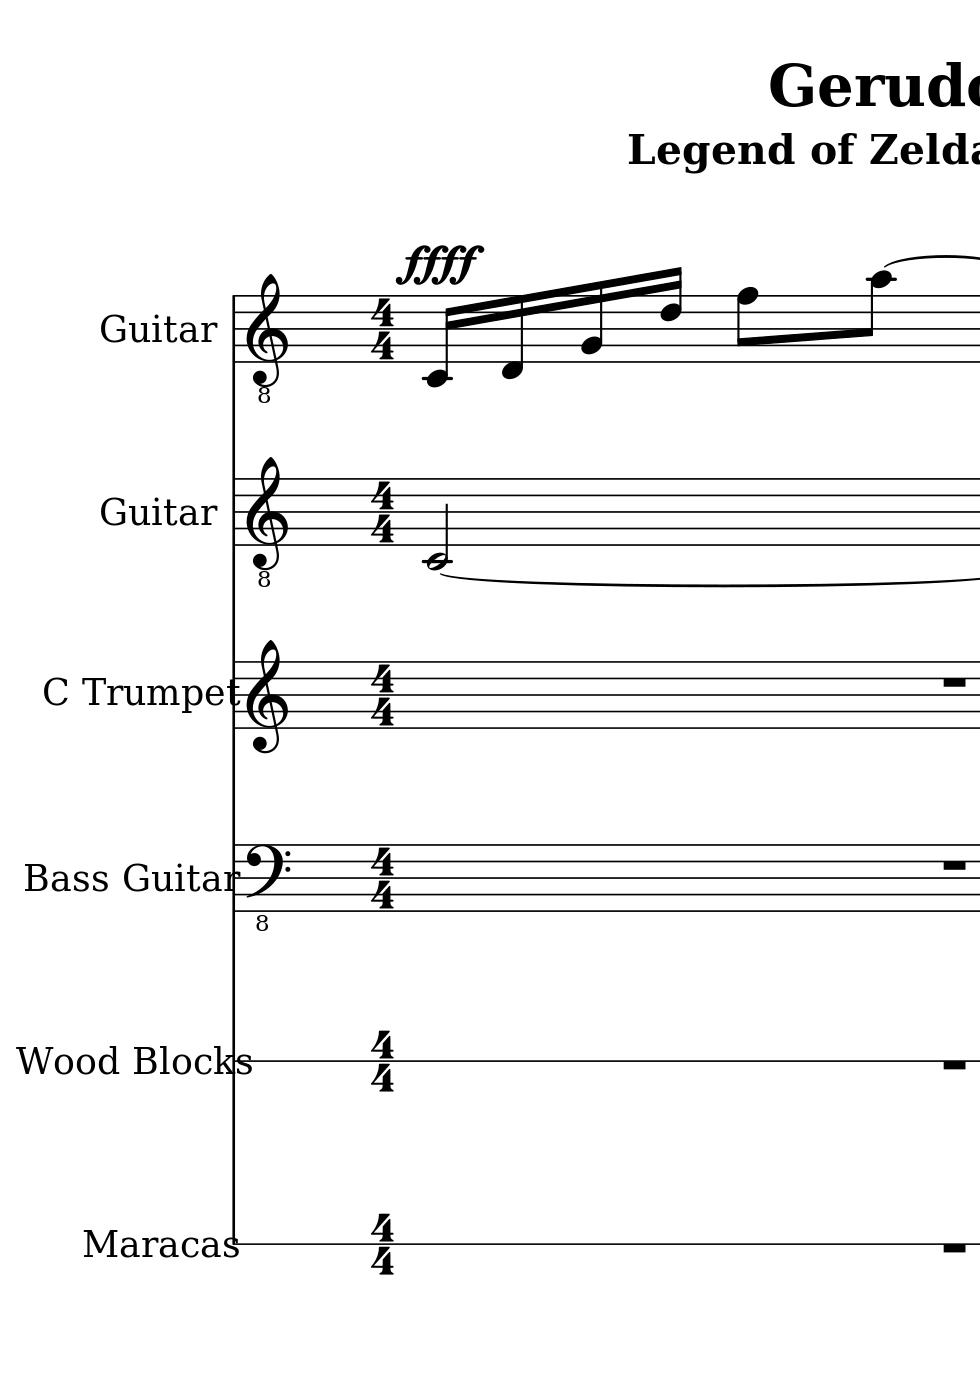16_-1: (498, 293, 525, 382)
16_-2: (422, 293, 457, 388)
16_2: (578, 279, 605, 364)
16_6: (658, 264, 684, 365)
2_-2: (422, 476, 450, 573)
4: (368, 660, 397, 695), (367, 512, 397, 545), (368, 478, 397, 512), (368, 695, 397, 727), (369, 843, 396, 878), (369, 1028, 396, 1062), (369, 1062, 396, 1095), (369, 1210, 396, 1244), (369, 878, 396, 911), (369, 1244, 395, 1277), (370, 328, 395, 362), (369, 296, 395, 328)
8_10: (859, 270, 895, 365)
8_8: (733, 286, 758, 365)
Bass: (21, 861, 109, 895)
Gclef: (246, 639, 288, 755)
Guit: (98, 492, 179, 529), (100, 310, 177, 347), (120, 860, 200, 894)
Lower_Fclef: (242, 841, 290, 933)
Lower_Gclef: (244, 453, 290, 589), (244, 271, 288, 405)
Rests1: (937, 855, 970, 875), (938, 672, 970, 691), (937, 1057, 969, 1074), (937, 1240, 968, 1257)
Single_barline: (227, 661, 244, 730), (227, 479, 242, 547), (227, 295, 241, 364)
TimeSig: (368, 478, 399, 546), (368, 294, 398, 362), (367, 661, 397, 729), (368, 844, 397, 912), (370, 1029, 396, 1096), (370, 1212, 396, 1280)
ffff: (395, 240, 482, 290)
